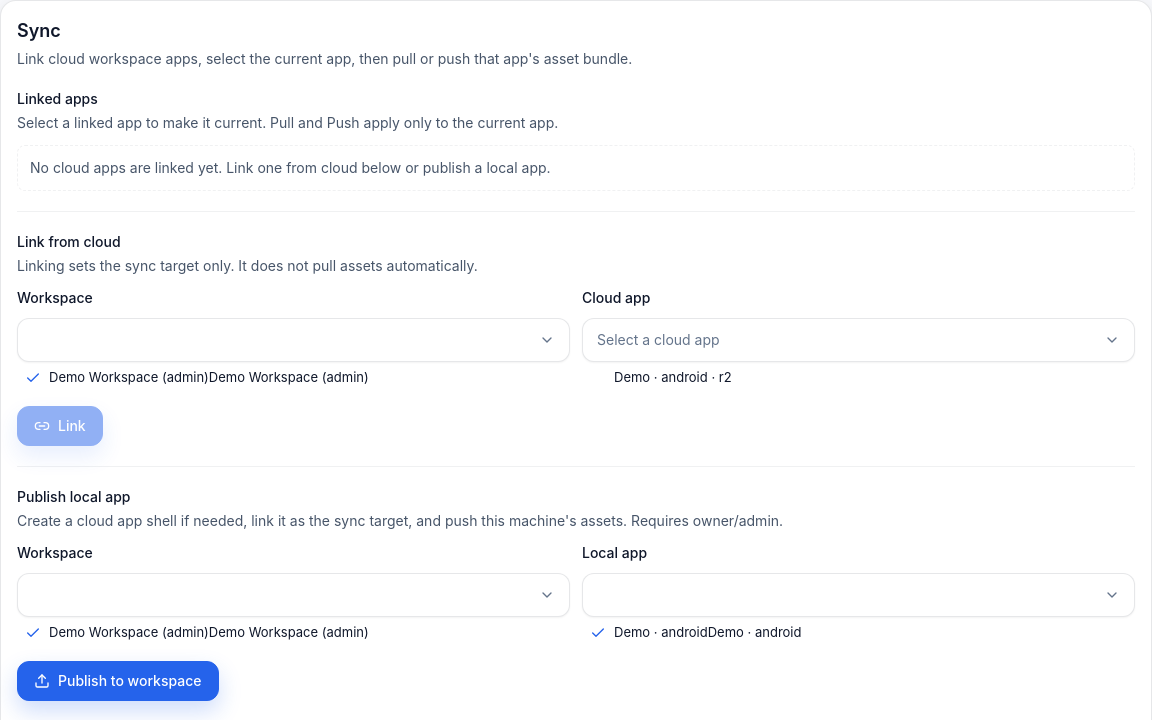
Test case: CloudSyncCard › publishes a local app from the always-visible publish section
The image size is (1152, 720).
Click the button "Publish to workspace". click: (118, 681)
box: [17,661,218,701]
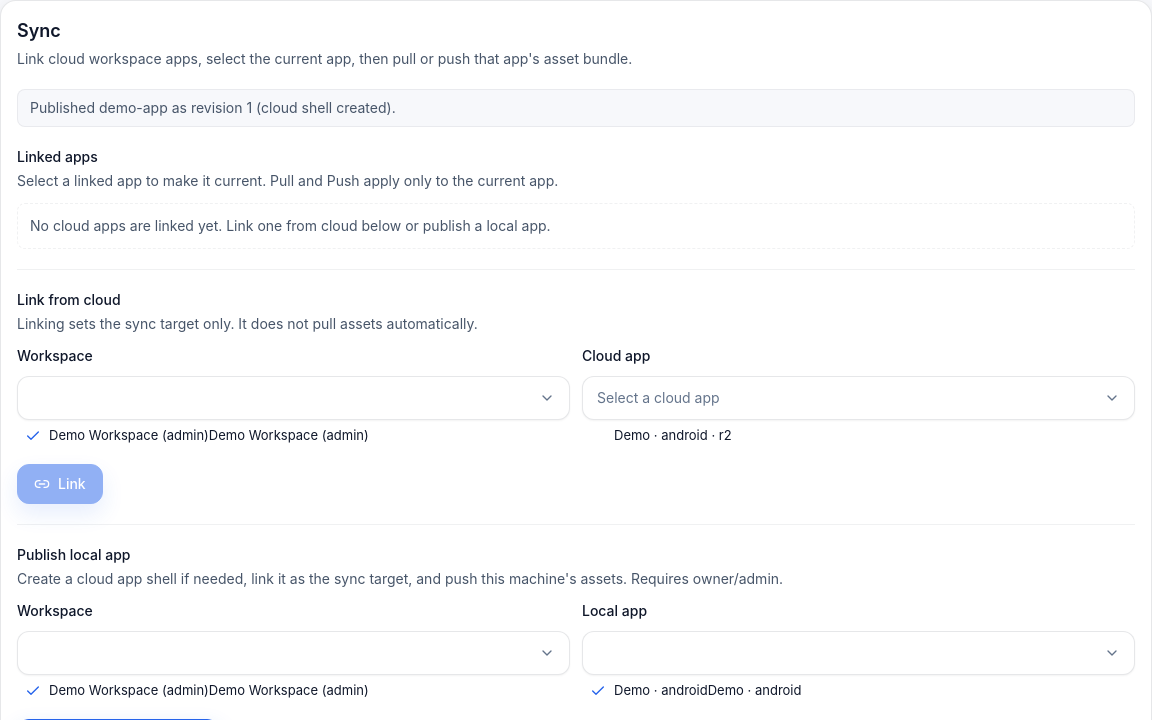
Expected: the text "Published demo-app as revision 1" is shown, [30,99,396,116]
